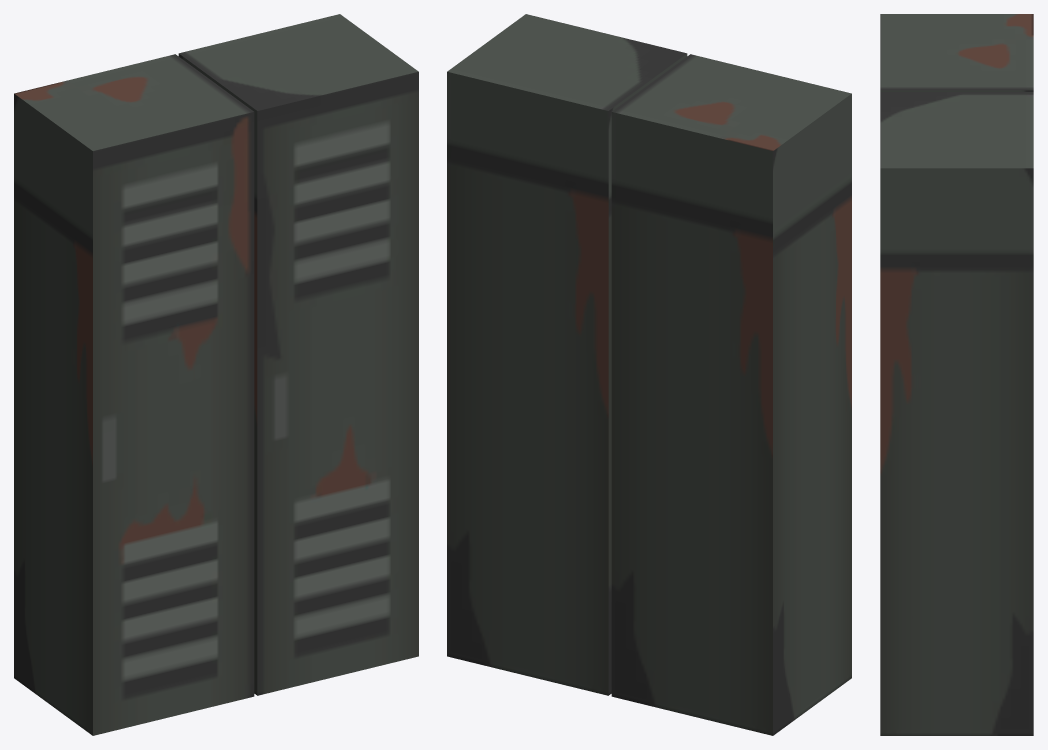
The model's file is Building_AncientLockers.obj.
3 renders of one model, left to right at view 1: azimuth 30°, elevation 25°; view 2: azimuth 150°, elevation 25°; view 3: azimuth 270°, elevation 25°, orthographic. The views are drawn at different scales.
Parts seen in each view (by area): view 1: Body; view 2: Body; view 3: Body.
Boxes of the visible parts, box(x1,y1,x2,y2) form: Body: box(14, 14, 418, 735); Body: box(447, 14, 851, 735); Body: box(880, 14, 1033, 735).
Size of the model in its own units: 1.05 by 1.8 by 0.44.
1 material, 1 textured.
